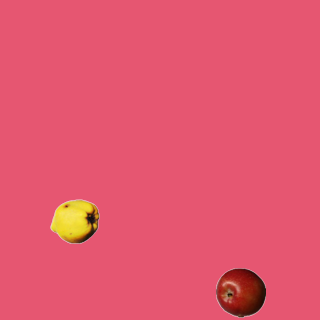Apple Braeburn: (215, 267, 265, 317)
Quince: (49, 196, 99, 246)
